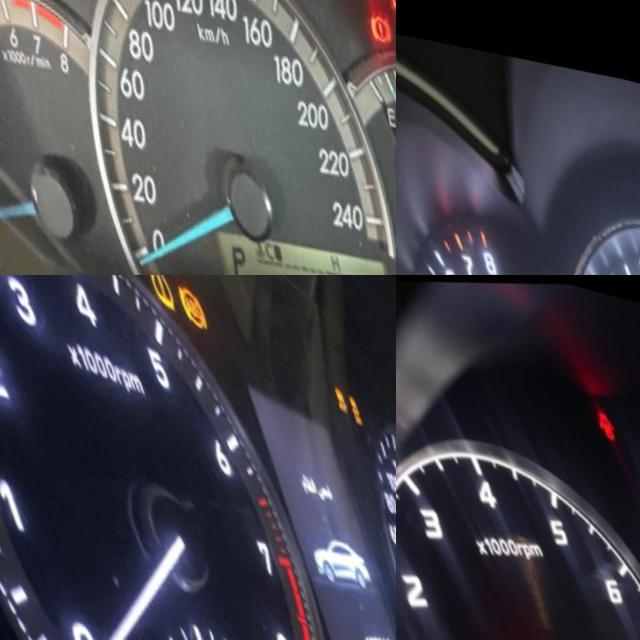Doors: (582, 387, 620, 437)
